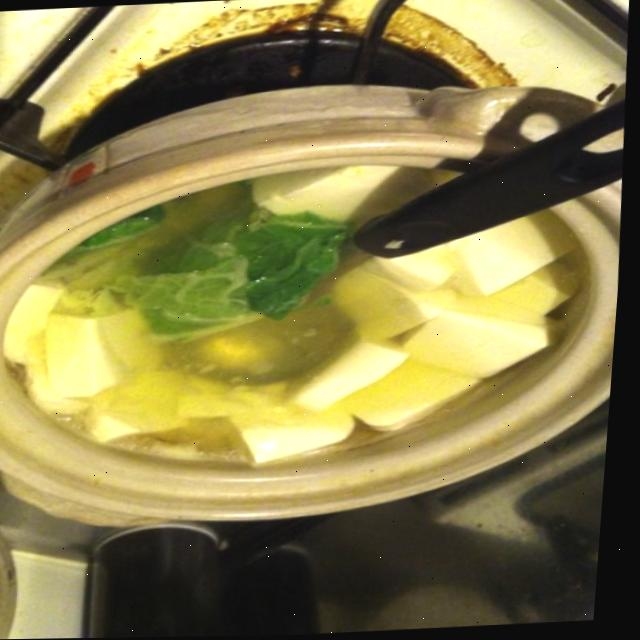豆腐料理: (0, 77, 635, 550)
